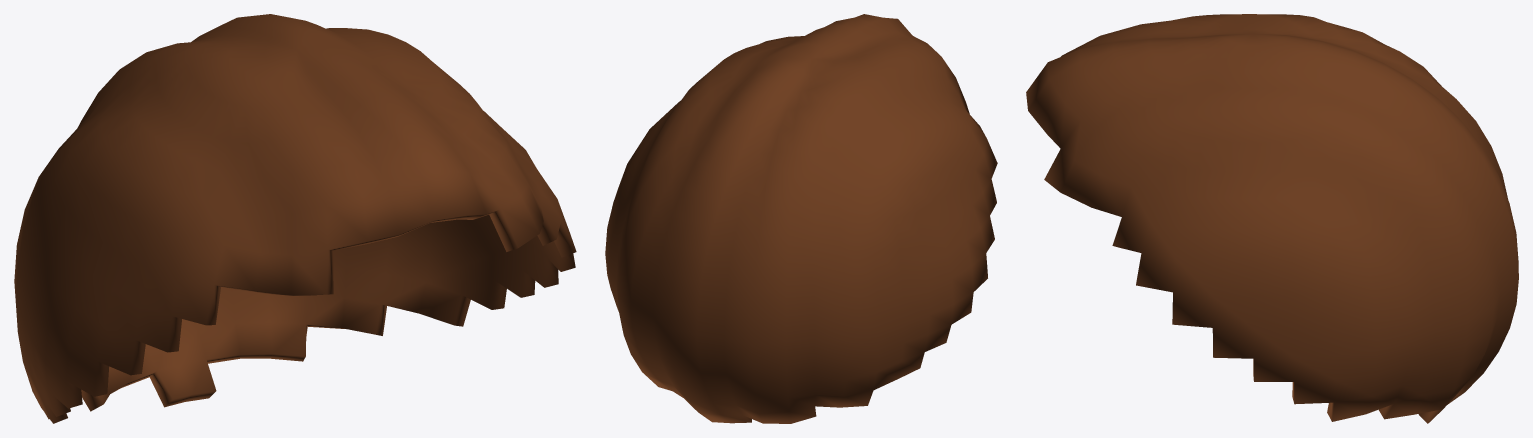
Rendered from frisur.glb.
The picture shows the model from 3 angles, left to right: view 1: azimuth 30°, elevation 25°; view 2: azimuth 150°, elevation 25°; view 3: azimuth 270°, elevation 25°; orthographic projection. The views are drawn at different scales.
Parts seen in each view (by area): view 1: frisur; view 2: frisur; view 3: frisur.
Part boxes in pixels (<box>): frisur: <box>14,14,576,423</box>; frisur: <box>605,14,997,423</box>; frisur: <box>1026,14,1518,423</box>.
Bounding box in the file's own units: 0.472 × 0.4243 × 0.5163.
